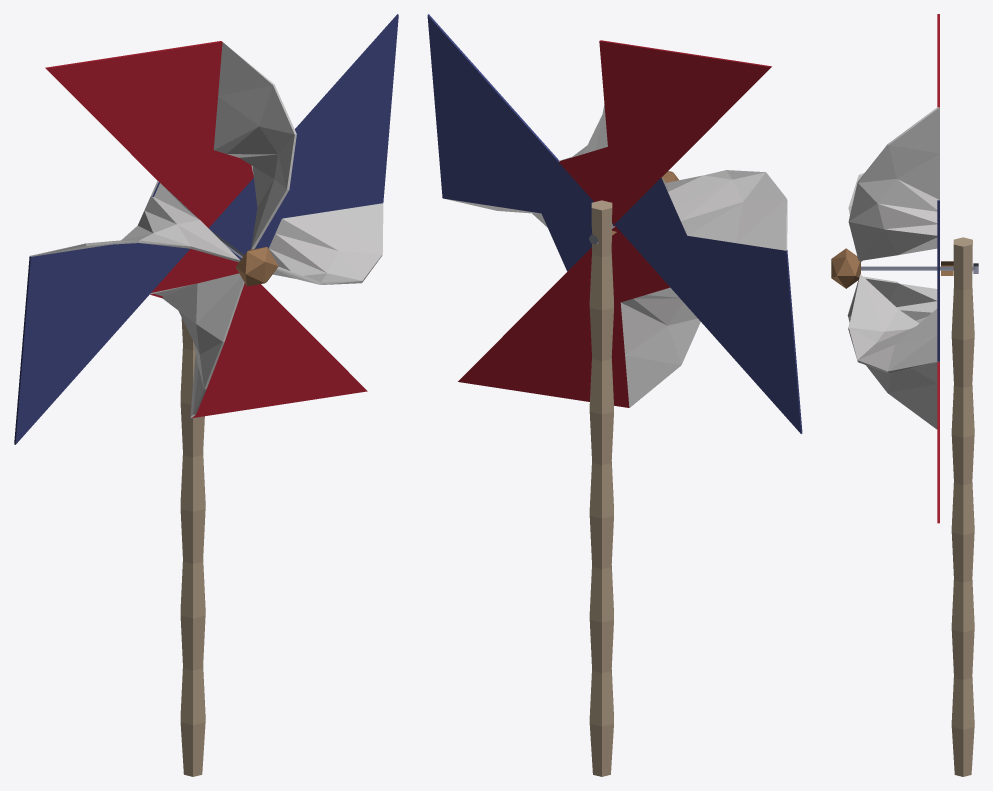
File: remolino-pinwheel-1ca67e.glb
3 views of the same model, side by side, from view 1: azimuth 30°, elevation 25°; view 2: azimuth 150°, elevation 25°; view 3: azimuth 270°, elevation 25° (orthographic). The views are drawn at different scales.
Visible parts, largest first — view 1: vanes, stick; view 2: vanes, stick; view 3: vanes, stick.
Boxes of the visible parts, x1=… form: vanes: x1=14, y1=14, x2=398, y2=444; stick: x1=180, y1=230, x2=244, y2=776; vanes: x1=427, y1=14, x2=802, y2=433; stick: x1=589, y1=200, x2=616, y2=776; vanes: x1=831, y1=14, x2=939, y2=523; stick: x1=861, y1=237, x2=978, y2=776.
Size of the model in its own units: 0.4137 by 0.7768 by 0.1508.
